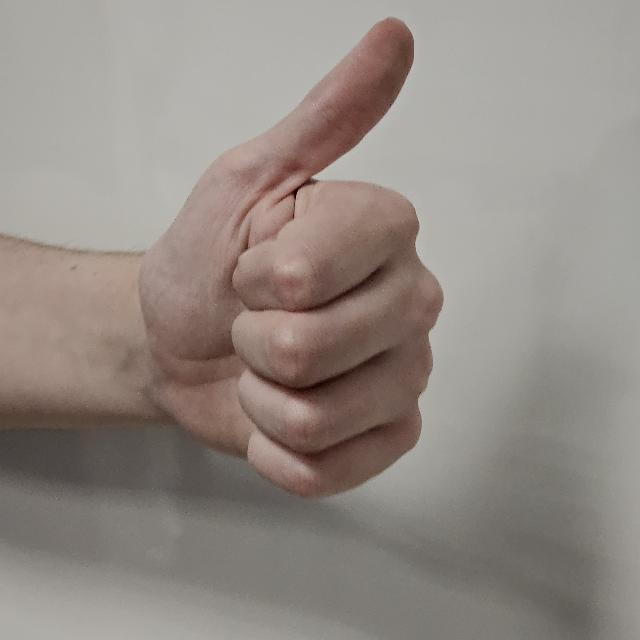Start: (136, 14, 448, 510)
